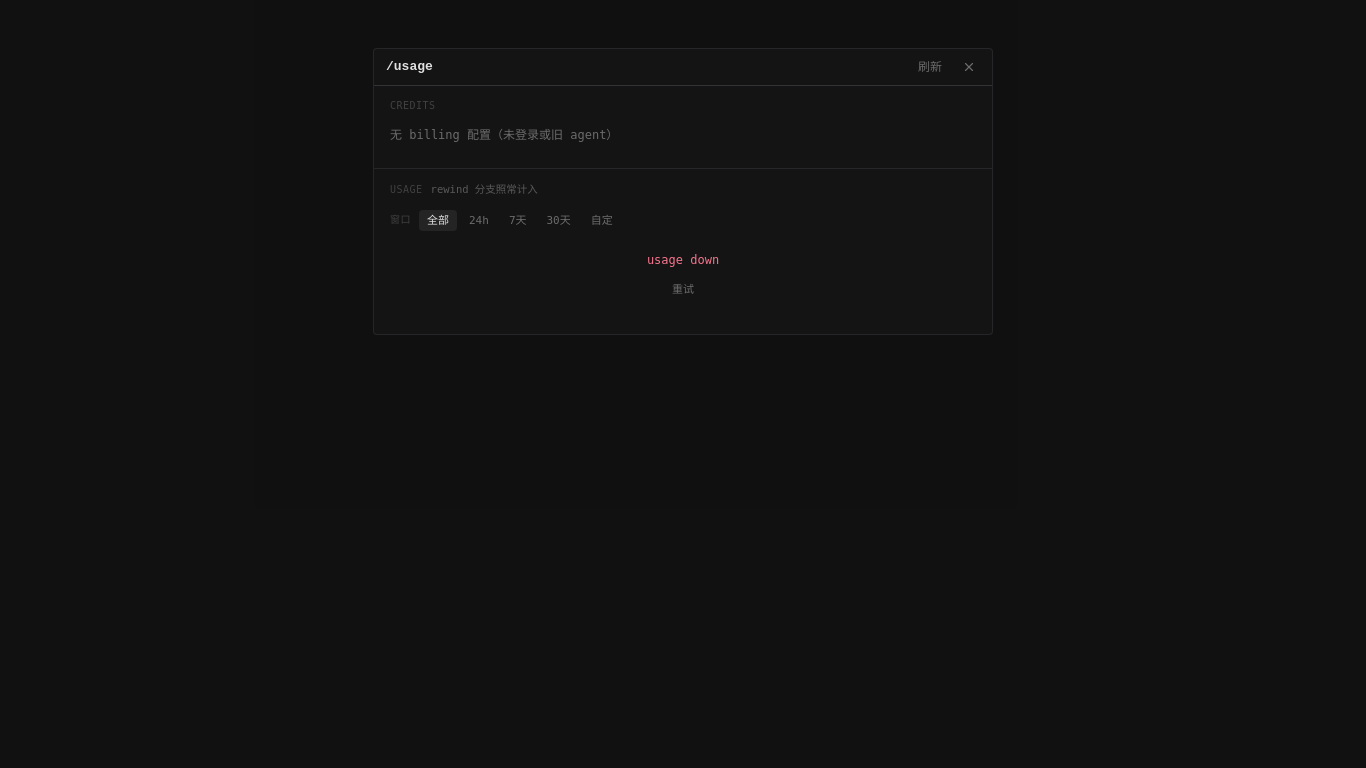
Test case: UsageModal › usage 请求失败 → 错误 + 重试
The width and height of the screenshot is (1366, 768).
Expected: the text "usage down" is shown, 647,253 -> 719,267
Click the button "重试" at (683, 290), box 660,277 -> 706,302
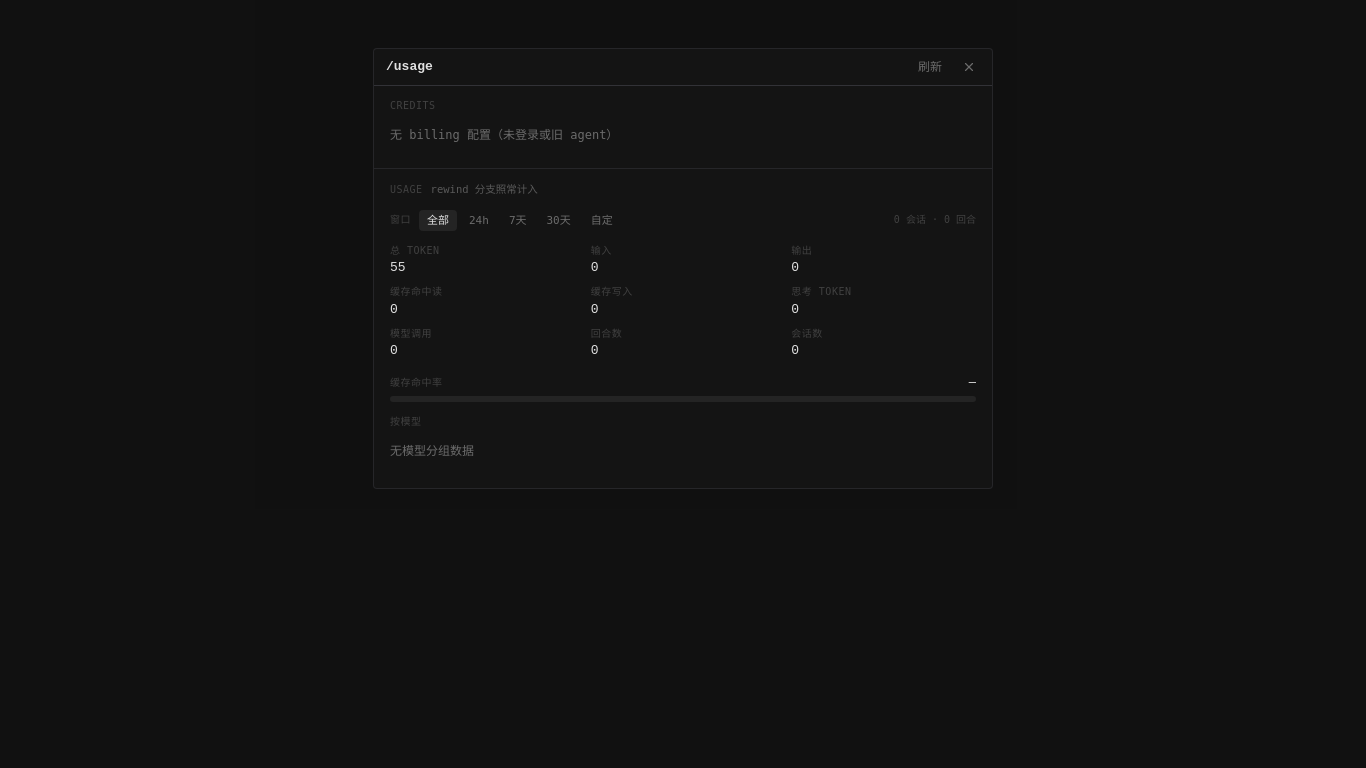
Now the text "55" is shown, box 390,260 -> 406,275
